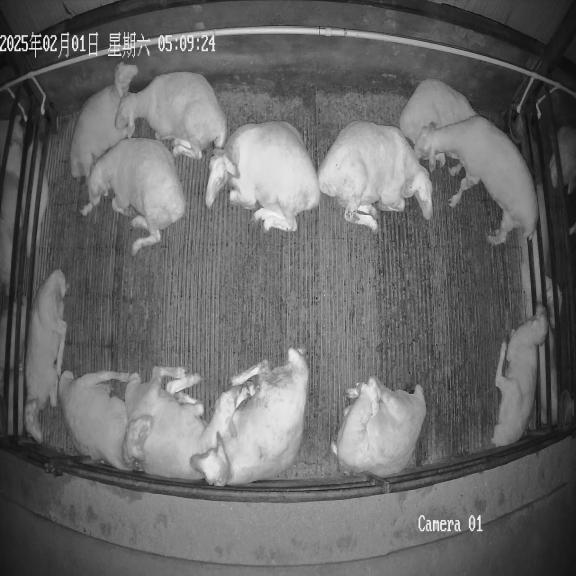lying: (190, 348, 309, 486), (125, 367, 254, 480), (205, 121, 321, 232), (318, 121, 432, 231), (81, 138, 186, 254), (331, 376, 426, 478), (116, 72, 227, 159), (59, 371, 152, 470), (23, 270, 68, 443), (70, 62, 137, 178), (492, 306, 547, 446), (399, 79, 477, 144)
stand: (414, 116, 538, 244)
